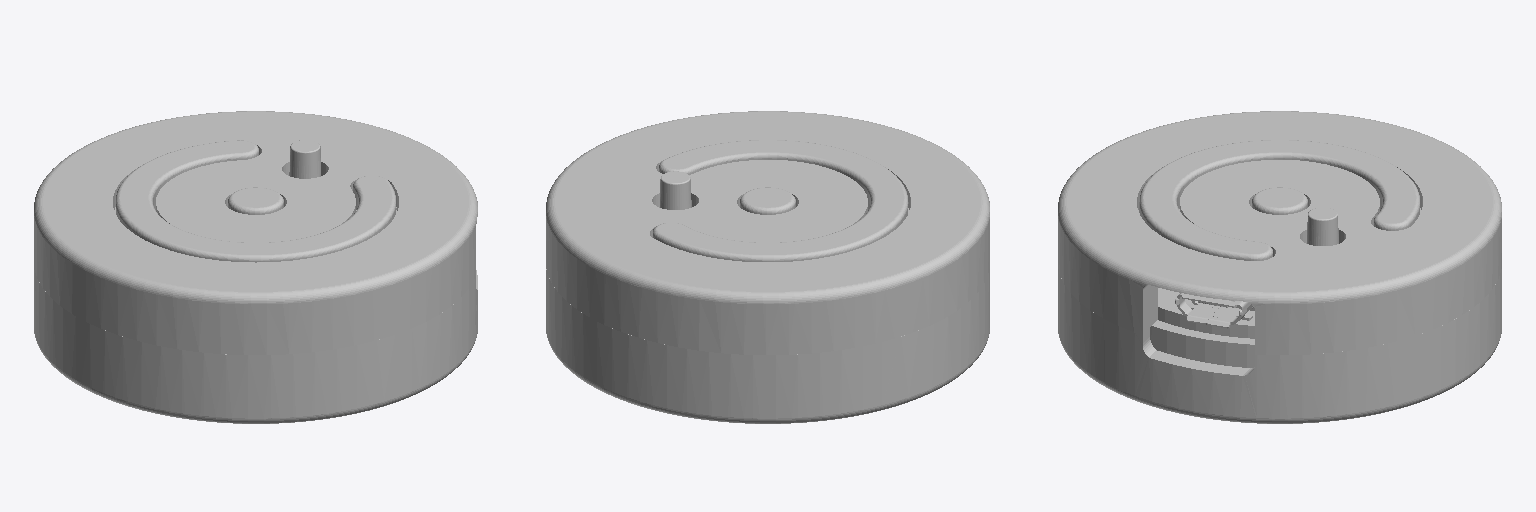
File: Case.obj
3 views of the same model, side by side, from view 1: azimuth 30°, elevation 25°; view 2: azimuth 150°, elevation 25°; view 3: azimuth 270°, elevation 25° (orthographic).
Parts seen in each view (by area): view 1: Case_v3.0_-_Tapa_SUP-2, Case_v3.0_-_Tapa_INF-4, Case_v3.0_-_Pipe-2, Case_v3.0_-_ESP_Acc_v1.0-3_S1_2-1_TL3301CFxxxxJ_2-1_Body1_2-1; view 2: Case_v3.0_-_Tapa_SUP-2, Case_v3.0_-_Tapa_INF-4, Case_v3.0_-_Pipe-2, Case_v3.0_-_ESP_Acc_v1.0-3_S1_2-1_TL3301CFxxxxJ_2-1_Body1_2-1; view 3: Case_v3.0_-_Tapa_SUP-2, Case_v3.0_-_Tapa_INF-4, Case_v3.0_-_Pipe-2, Case_v3.0_-_ESP_Acc_v1.0-3_J2_2-1_[number redacted]_2-1, Case_v3.0_-_ESP_Acc_v1.0-3_Board_2-1_Open_CASCADE_STEP_translat, Case_v3.0_-_ESP_Acc_v1.0-3_S1_2-1_TL3301CFxxxxJ_2-1_Body1_2-1.
Part boxes in pixels (x1,y1,x2,y2): Case_v3.0_-_Tapa_SUP-2: (34,111,477,354); Case_v3.0_-_Tapa_INF-4: (34,270,477,423); Case_v3.0_-_Pipe-2: (114,140,395,262); Case_v3.0_-_ESP_Acc_v1.0-3_S1_2-1_TL3301CFxxxxJ_2-1_Body1_2-1: (289,140,320,178); Case_v3.0_-_Tapa_SUP-2: (546,111,989,354); Case_v3.0_-_Tapa_INF-4: (546,269,989,423); Case_v3.0_-_Pipe-2: (653,140,909,261); Case_v3.0_-_ESP_Acc_v1.0-3_S1_2-1_TL3301CFxxxxJ_2-1_Body1_2-1: (660,171,691,209); Case_v3.0_-_Tapa_SUP-2: (1058,111,1501,367); Case_v3.0_-_Tapa_INF-4: (1058,269,1501,423); Case_v3.0_-_Pipe-2: (1138,140,1421,260); Case_v3.0_-_ESP_Acc_v1.0-3_J2_2-1_[number redacted]_2-1: (1175,293,1254,328); Case_v3.0_-_ESP_Acc_v1.0-3_Board_2-1_Open_CASCADE_STEP_translat: (1158,288,1254,338); Case_v3.0_-_ESP_Acc_v1.0-3_S1_2-1_TL3301CFxxxxJ_2-1_Body1_2-1: (1307,208,1338,245).
Bounding box in the file's own units: 47.5 × 18.17 × 47.5.